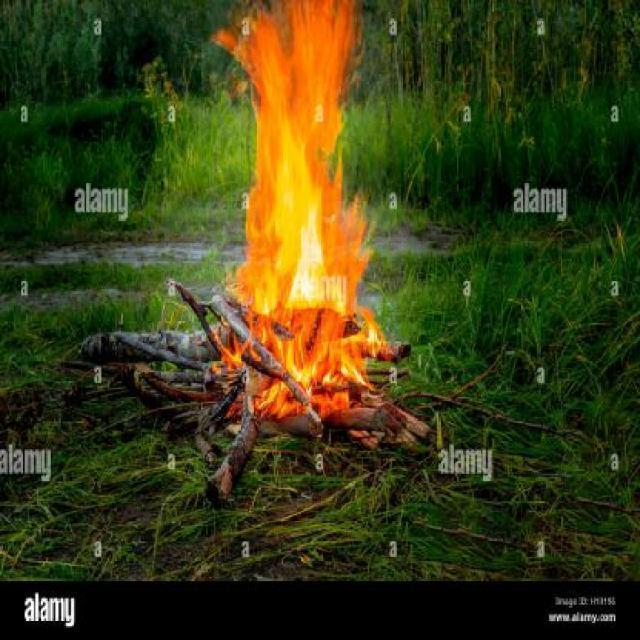Fire: (223, 1, 382, 408)
